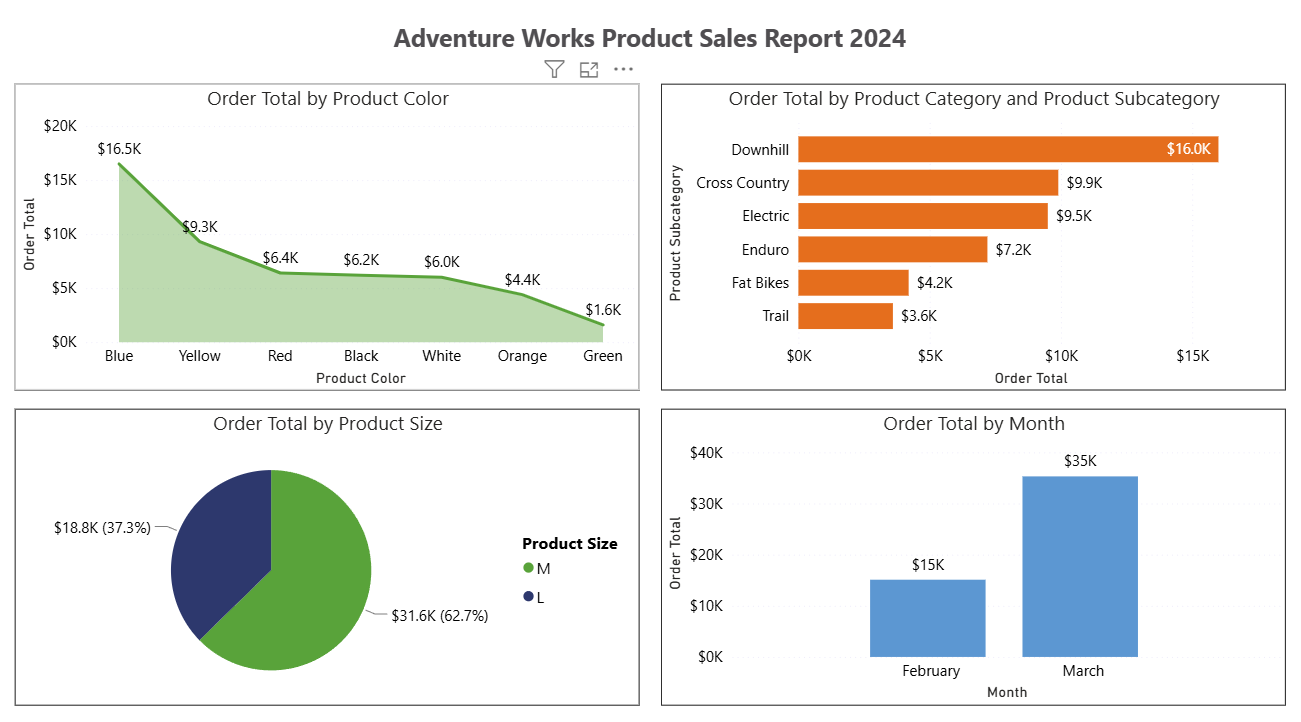

The page's visual inventory and layout, read from the dashboard file:
{"tool":"powerbi","page":{"name":"Product Sales Report - Page 1","canvas":[1280,720],"ordinal":0},"visuals":[{"type":"textbox","box":[18.4,21.4,1243.3,50.5],"z":0},{"type":"areaChart","fields":{"Category":["Sales.Product Color"],"Y":["Sum(Sales.Order Total)"]},"box":[18.6,91.4,611.4,300],"z":1000},{"type":"clusteredBarChart","fields":{"Category":["Sales.Product Category","Sales.Product Subcategory"],"Y":["Sum(Sales.Order Total)"]},"box":[650,91.4,611.4,300],"z":2000},{"type":"pieChart","fields":{"Category":["Sales.Product Size"],"Y":["Sum(Sales.Order Total)"]},"box":[18.6,410,611.4,290],"z":3000},{"type":"clusteredColumnChart","fields":{"Category":["Sales.Order Date.Variation.Date Hierarchy.Month"],"Y":["Sum(Sales.Order Total)"]},"box":[650,410,611.4,290],"z":4000},{"type":"textbox","box":[338.4,26,601.7,47.5],"z":5000}]}

Visuals, with their boxes in screenshot pixels (x1, y1, x2, y2), scaled from the page's 1280x720 canvas onto the 1301x722 screenshot:
textbox: rect(19, 21, 1282, 72)
areaChart - Sales.Product Color x Sum(Sales.Order Total): rect(19, 92, 640, 392)
clusteredBarChart - Sales.Product Category x Sales.Product Subcategory: rect(661, 92, 1282, 392)
pieChart - Sales.Product Size x Sum(Sales.Order Total): rect(19, 411, 640, 702)
clusteredColumnChart - Sales.Order Date.Variation.Date Hierarchy.Month x Sum(Sales.Order Total): rect(661, 411, 1282, 702)
textbox: rect(344, 26, 956, 74)
